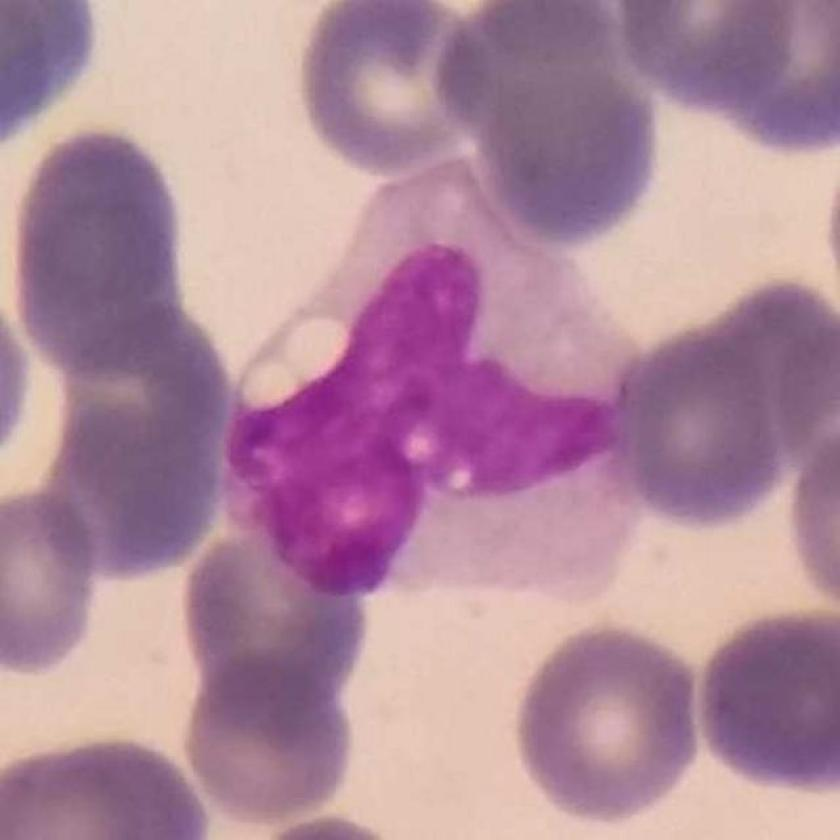monocyte: (214, 133, 656, 635)
